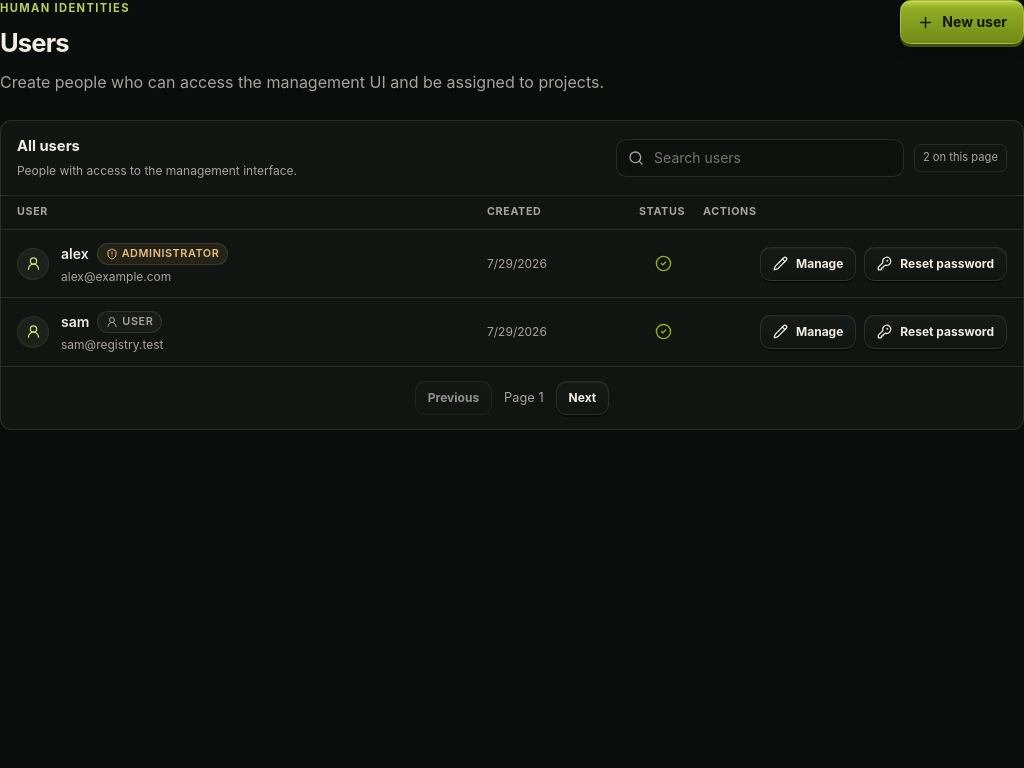
Test: UsersPage › reveals a manual link when SMTP is disabled or unavailable
This screenshot has width=1024, height=768.
Click the button "Reset password" in the row of "sam@registry.test" at [936, 332], box [864, 315, 1007, 349]
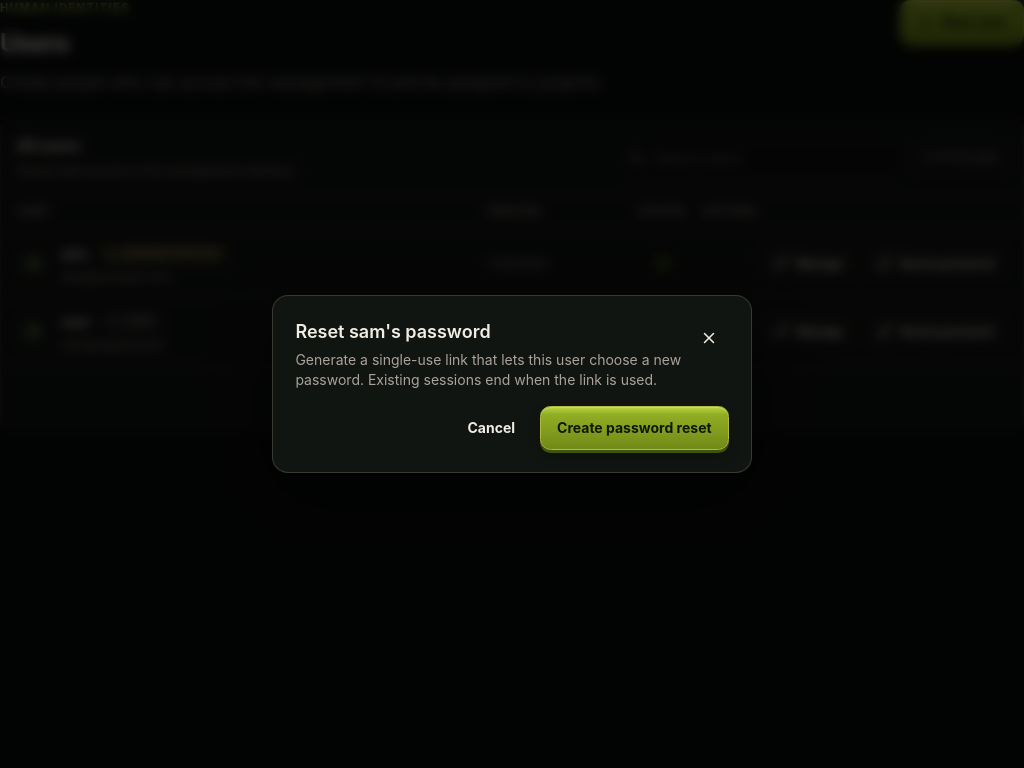
Click the button "Create password reset" at [634, 428], box [540, 406, 729, 450]
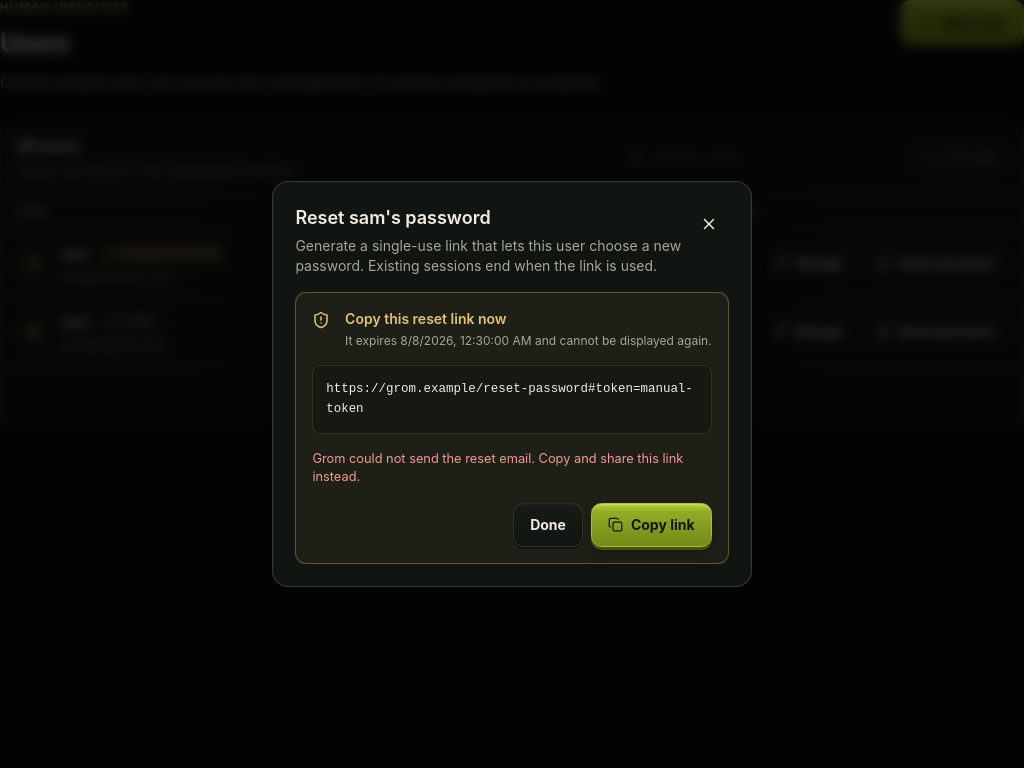
Expected: the text "manual-token" is shown, [326, 382, 693, 416]
Expected: the text "Grom could not send the reset email" is shown, [312, 451, 683, 484]
